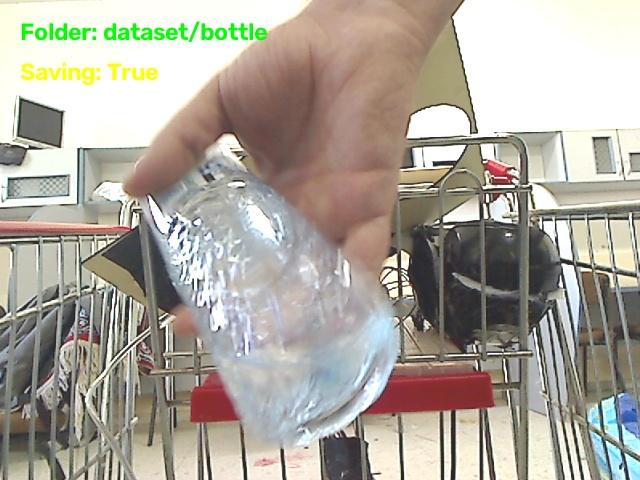Bottle: (143, 149, 397, 446)
